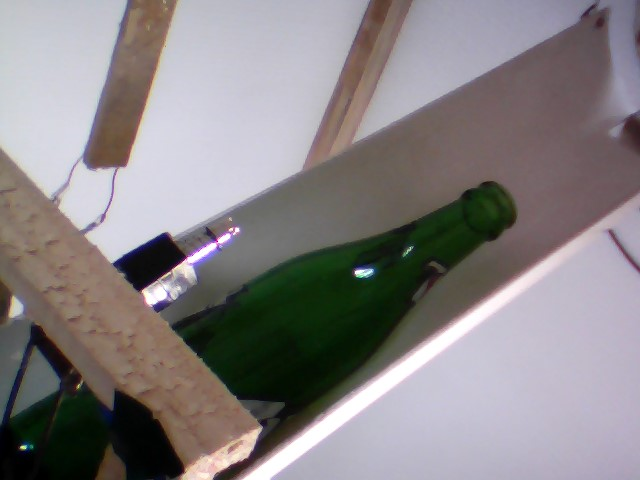vidrio: (178, 170, 540, 440)
